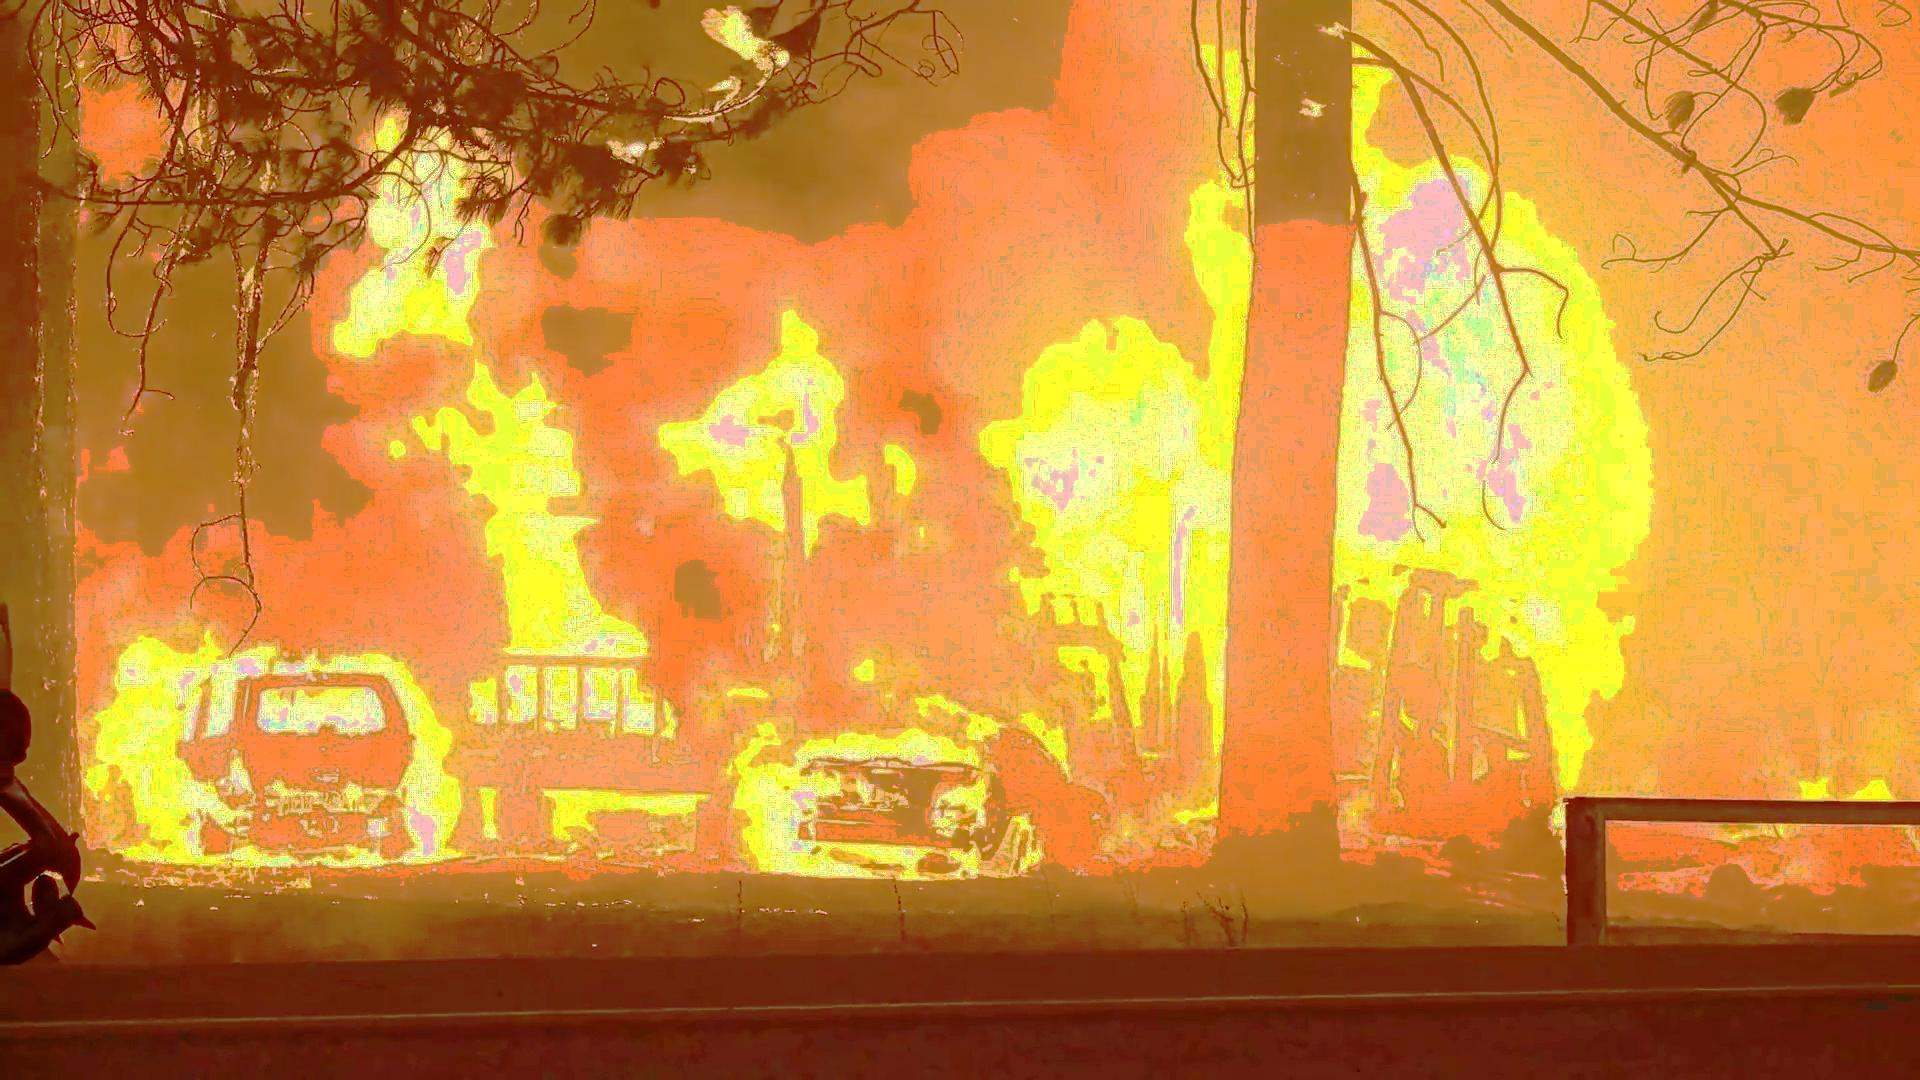fire: (85, 593, 463, 854), (1351, 165, 1600, 527), (1347, 548, 1693, 781), (985, 308, 1226, 529), (747, 700, 1016, 890)
